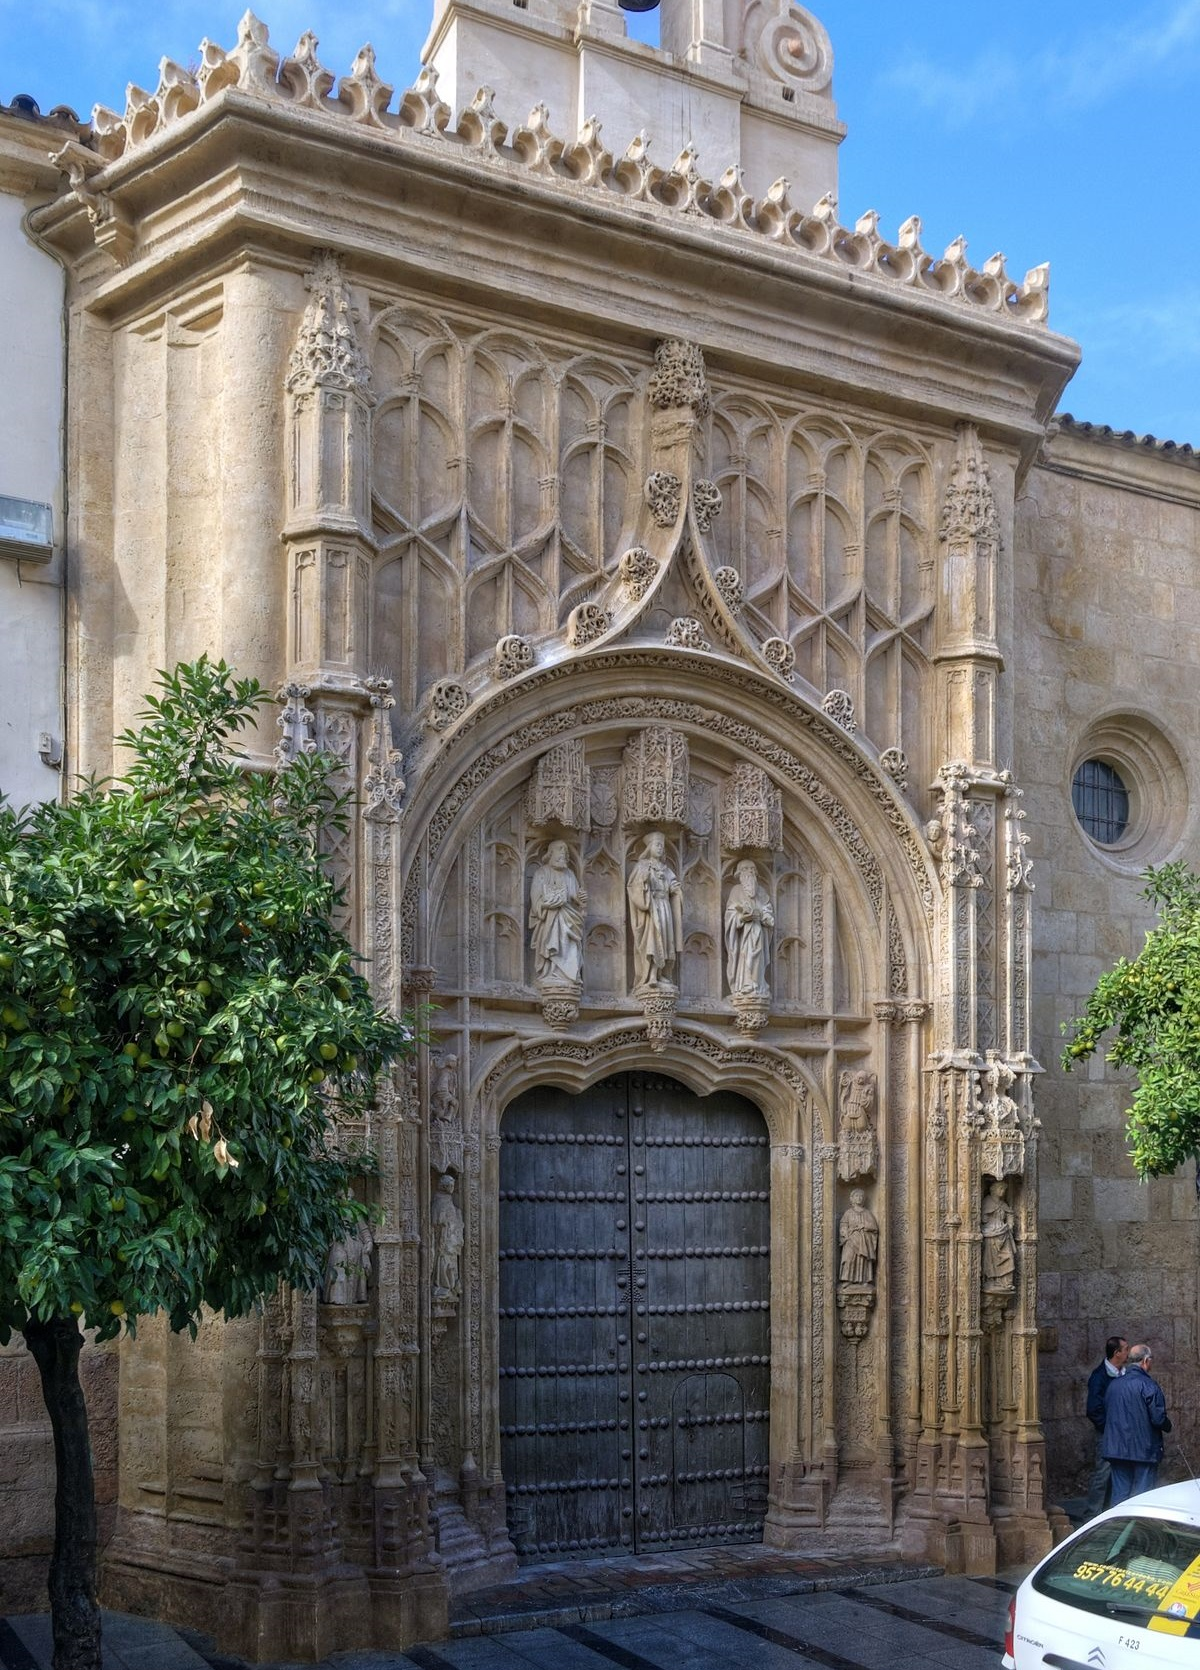arco-conopial: (432, 508, 875, 743)
arco-trilobulado: (479, 1011, 813, 1144)
